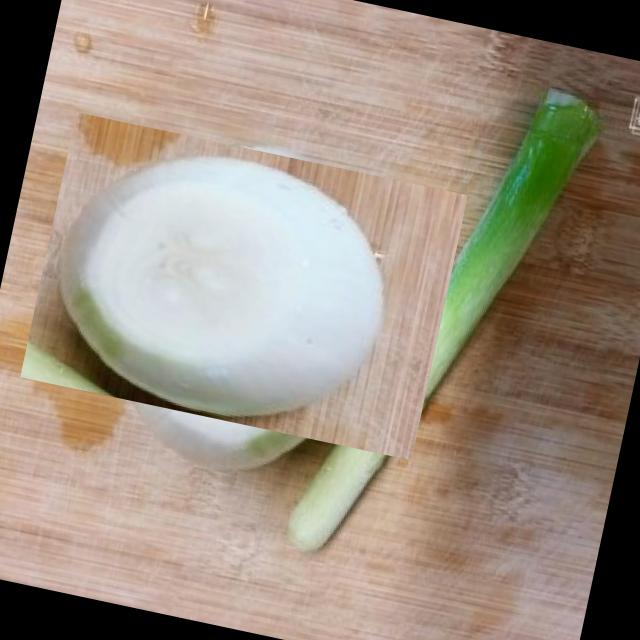Onion: (44, 87, 443, 486)
